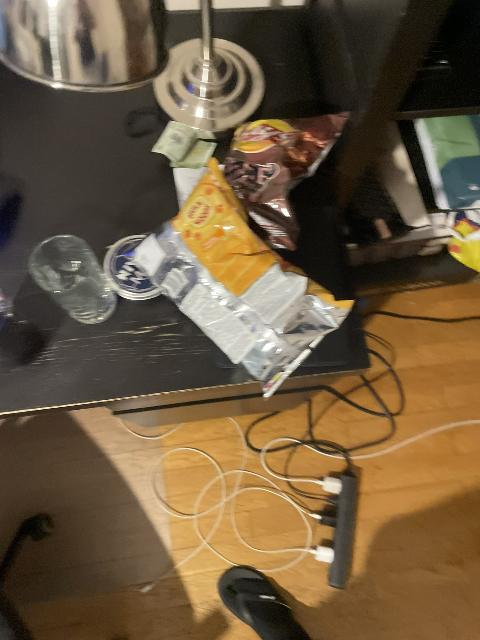Chio Hula Hoops Cheese 70g: (136, 163, 354, 397)
Lays Beef Grilled Ribs 125g: (223, 115, 350, 253)
